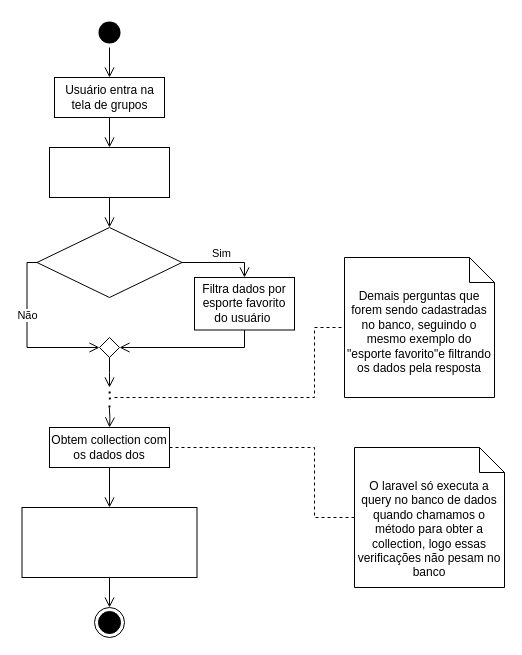
This 522x655 diagram has some shape labels left out. The centre of each missing label's shape, as x and y in pixels:
"Obtem dados da tabela de grupos na cidade do usuário" belongs at (109,172).
"Retorna view de grupos com a collection com os dados obtido no banco de dados" belongs at (109,542).
"Usuário tem esporte favorito?" belongs at (109,262).
